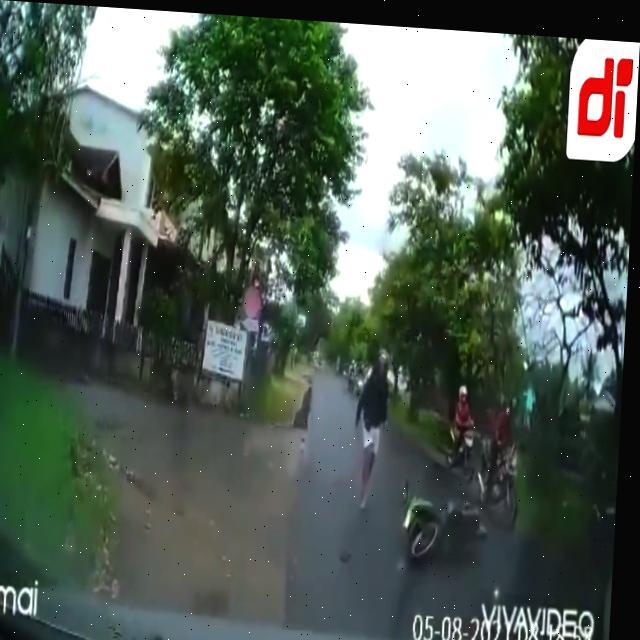normal: (447, 396, 557, 514)
single accident: (373, 477, 507, 571)
